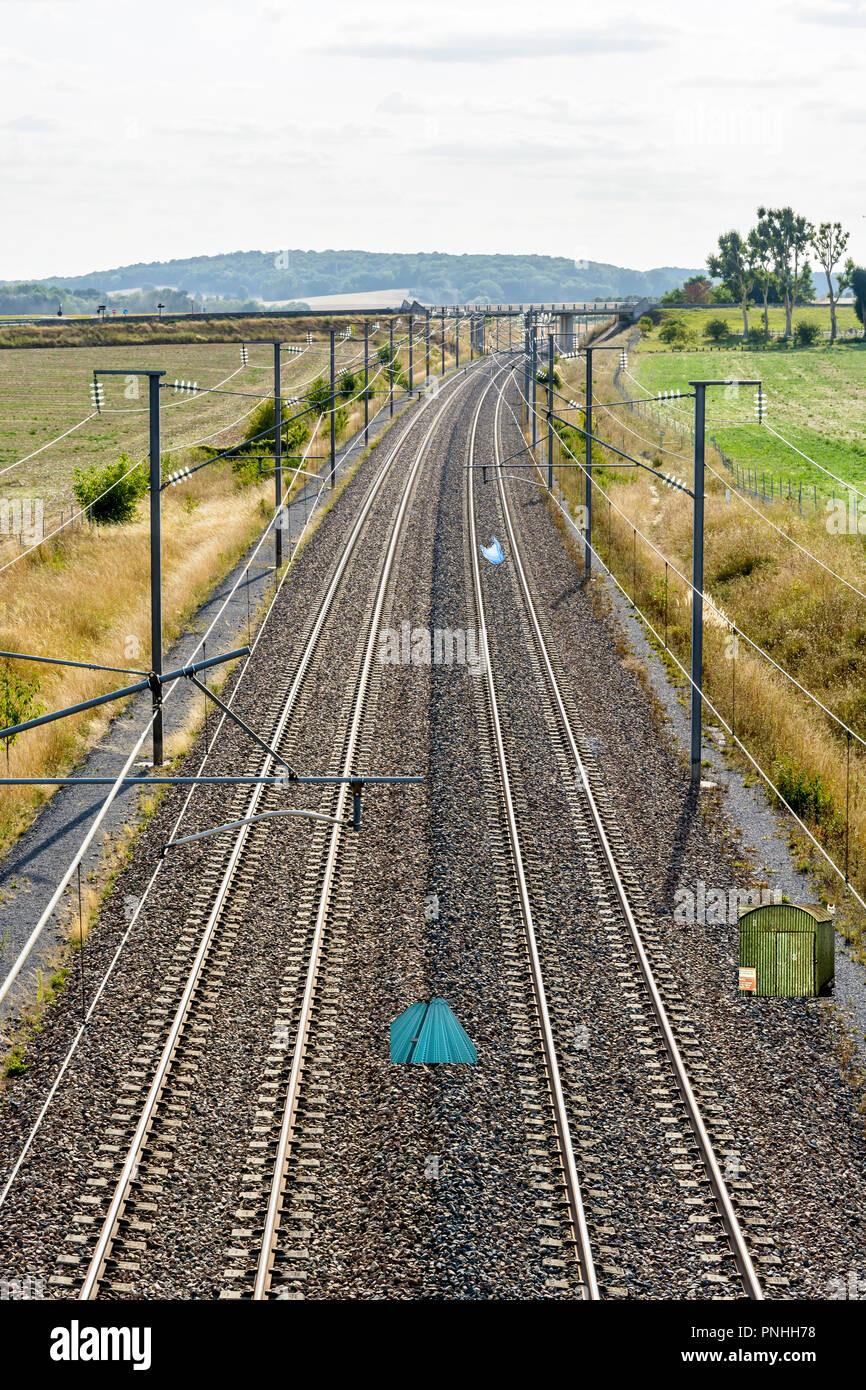Color_steel: (387, 978, 495, 1085)
Green_house: (708, 885, 860, 1022)
Plastic: (470, 525, 520, 575)
